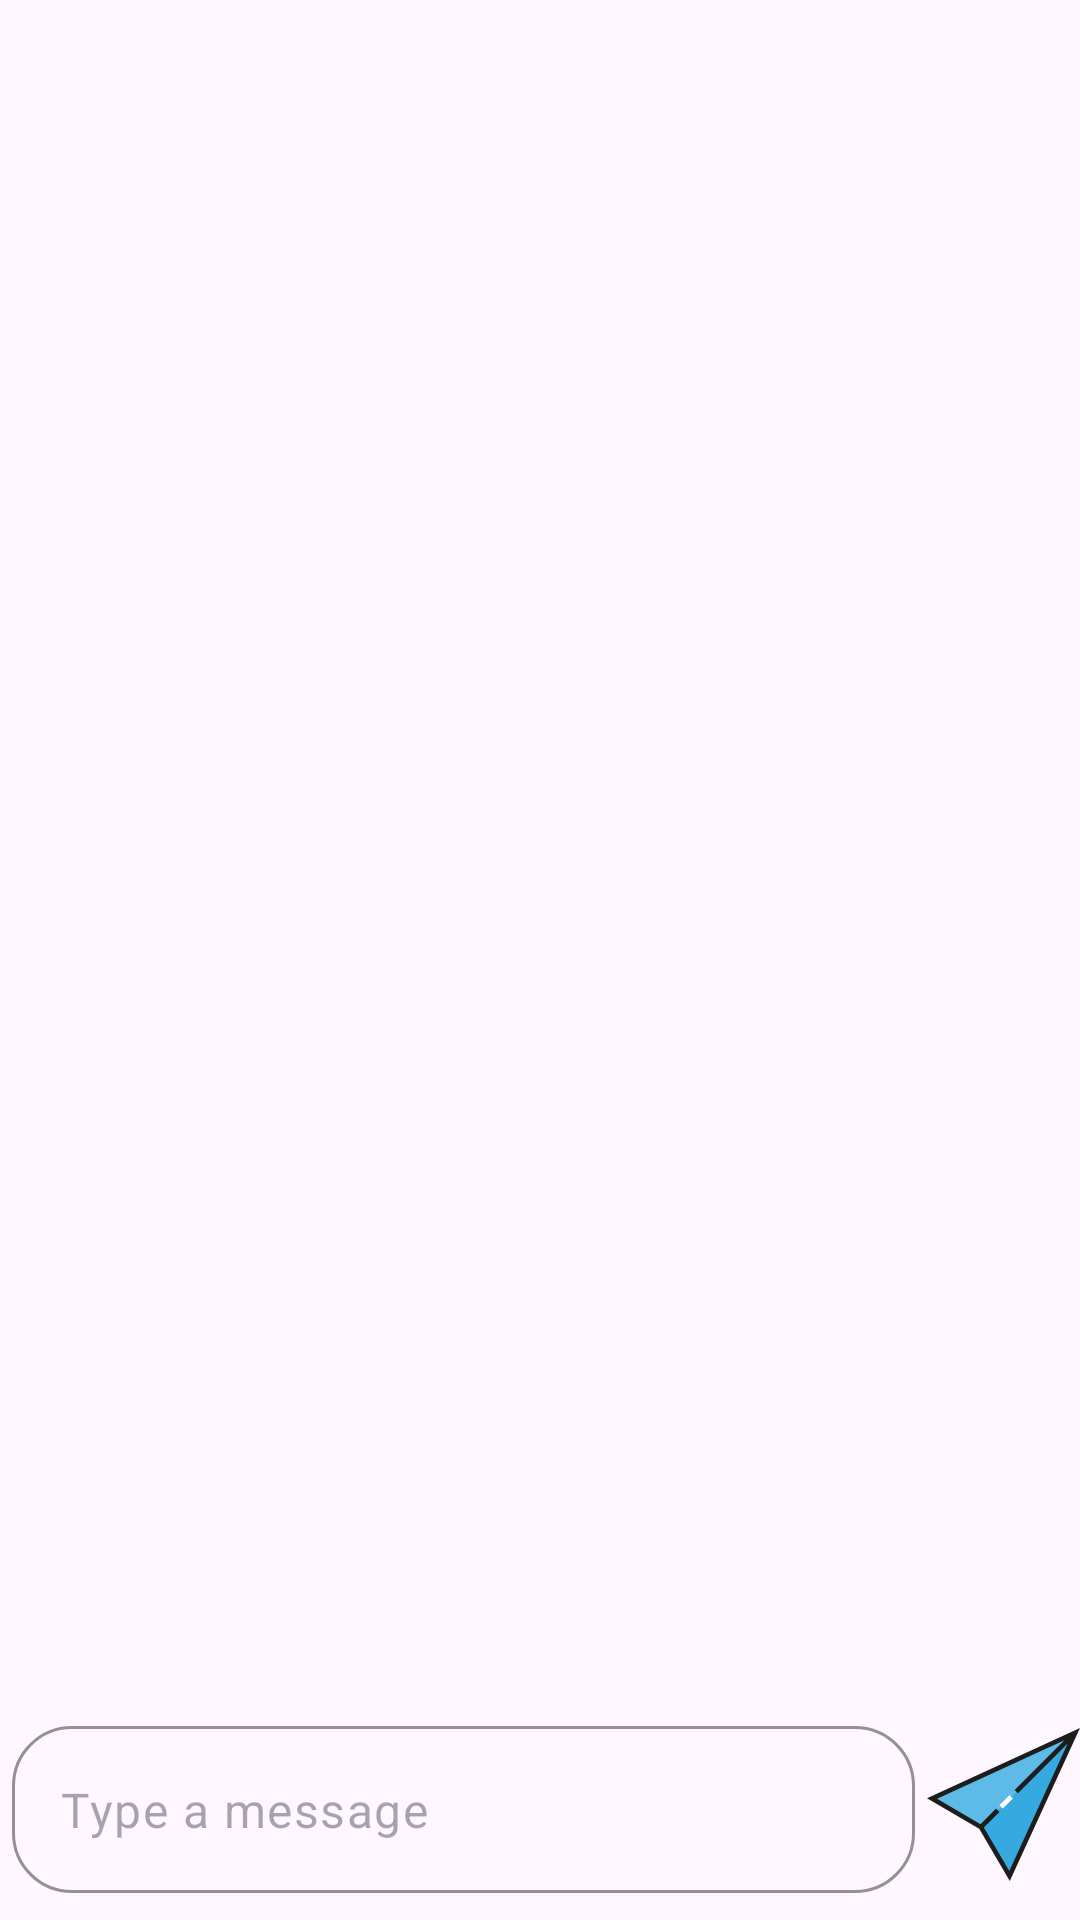

Where to tap for icons on this 1080x1920 app screen, as (x=x, y=y):
send: (x=1003, y=1804)
